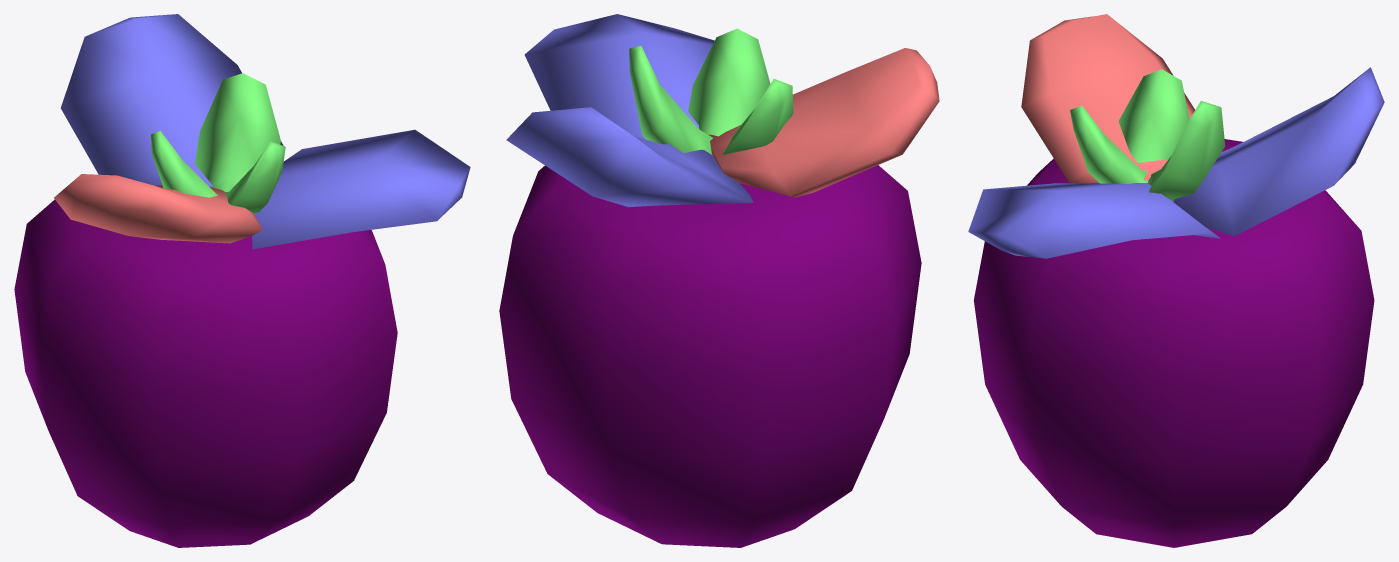
File: Cactus05.fbx
3 renders of one model, left to right at view 1: azimuth 30°, elevation 25°; view 2: azimuth 150°, elevation 25°; view 3: azimuth 270°, elevation 25°, orthographic. The views are drawn at different scales.
Parts seen in each view (by area): view 1: Low_Cactus05; view 2: Low_Cactus05; view 3: Low_Cactus05.
Part boxes in pixels (x1,y1,x2,y2): Low_Cactus05: (14, 14, 470, 547); Low_Cactus05: (499, 14, 939, 547); Low_Cactus05: (968, 14, 1384, 547).
Bounding box in the file's own units: 276 × 312 × 257.
